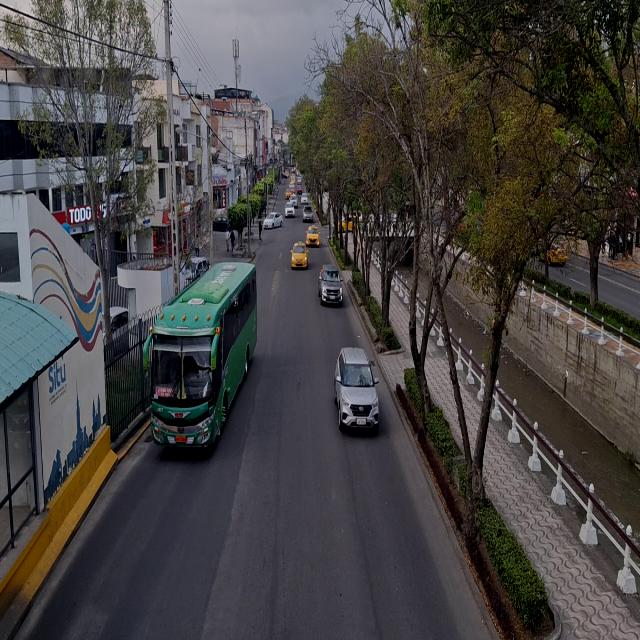BUS: (151, 266, 260, 450)
SUV: (335, 350, 377, 430), (319, 267, 341, 304)
